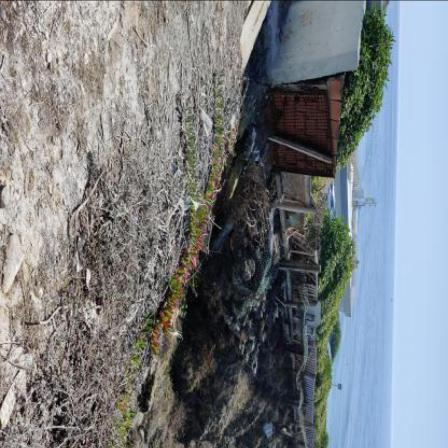Bottle cap: (173, 166, 177, 174)
Cup: (203, 110, 214, 139)
Other litter: (2, 369, 26, 431)
Unlabeled litter: (21, 355, 39, 379), (184, 196, 200, 215), (77, 238, 84, 274)
